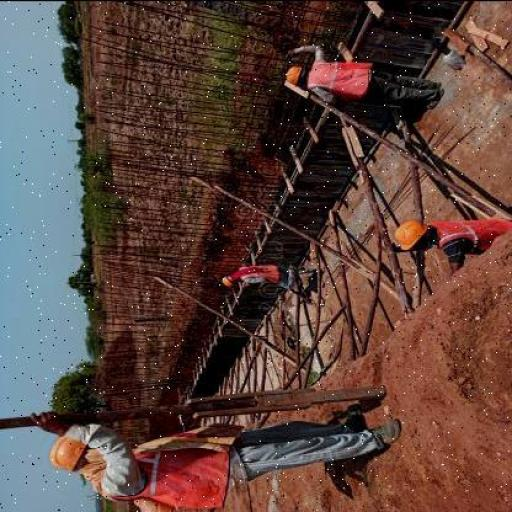person: (47, 390, 412, 512), (282, 36, 458, 130), (380, 208, 512, 287), (220, 254, 316, 305)
safety_shoe: (366, 416, 408, 452), (341, 398, 367, 430), (419, 88, 450, 110), (287, 264, 312, 268)
